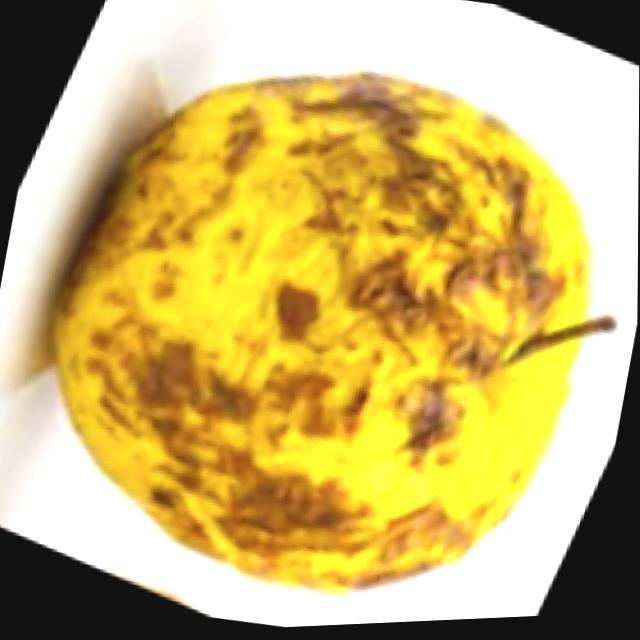organik: (14, 0, 640, 639)
